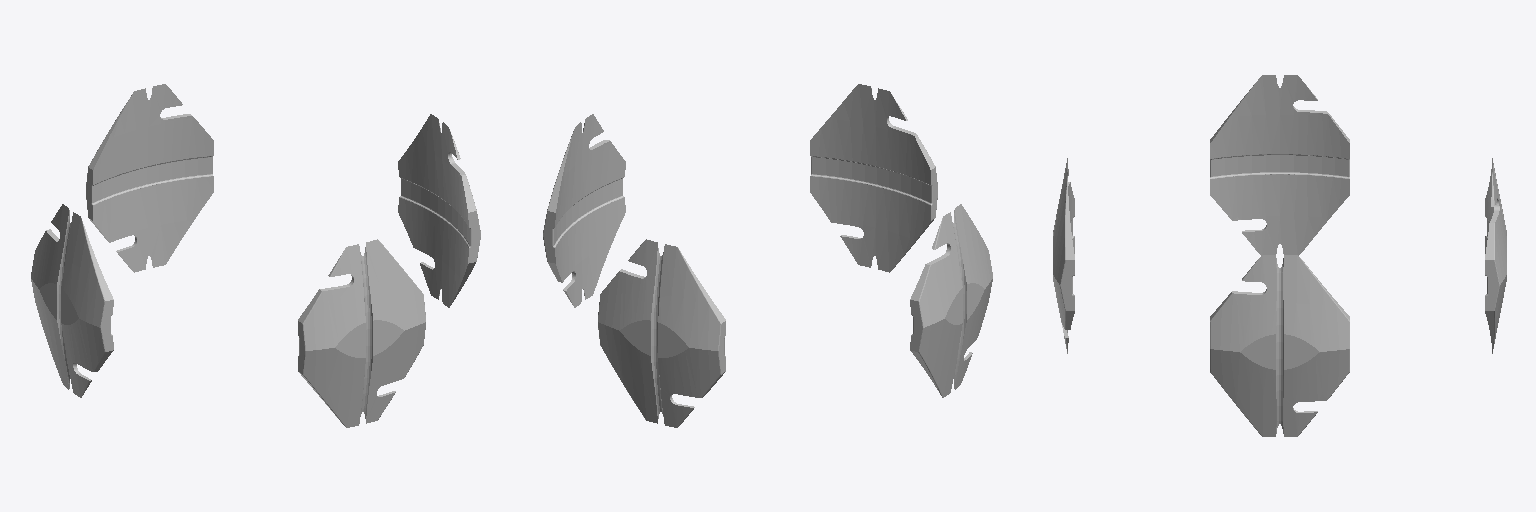
Rendered from Harness_Bridges_edit.obj.
3 renders of one model, left to right at view 1: azimuth 30°, elevation 25°; view 2: azimuth 150°, elevation 25°; view 3: azimuth 270°, elevation 25°, orthographic.
Visible parts, largest first — view 1: Volumenkörper1:1, Volumenkörper1:3, Volumenkörper1, Volumenkörper1:2; view 2: Volumenkörper1:1, Volumenkörper1:3, Volumenkörper1:2, Volumenkörper1; view 3: Volumenkörper1:2, Volumenkörper1, Volumenkörper1:1, Volumenkörper1:3.
Boxes of the visible parts, x1,y1,x2,y2 form: Volumenkörper1:1: [86, 84, 213, 272]; Volumenkörper1:3: [298, 239, 425, 427]; Volumenkörper1: [31, 204, 113, 397]; Volumenkörper1:2: [398, 114, 480, 307]; Volumenkörper1:1: [598, 239, 725, 427]; Volumenkörper1:3: [810, 84, 937, 272]; Volumenkörper1:2: [543, 114, 625, 307]; Volumenkörper1: [910, 204, 992, 397]; Volumenkörper1:2: [1210, 255, 1349, 436]; Volumenkörper1: [1210, 75, 1349, 255]; Volumenkörper1:1: [1485, 158, 1506, 353]; Volumenkörper1:3: [1053, 158, 1074, 353].
Size of the model in its own units: 330 by 145 by 330.